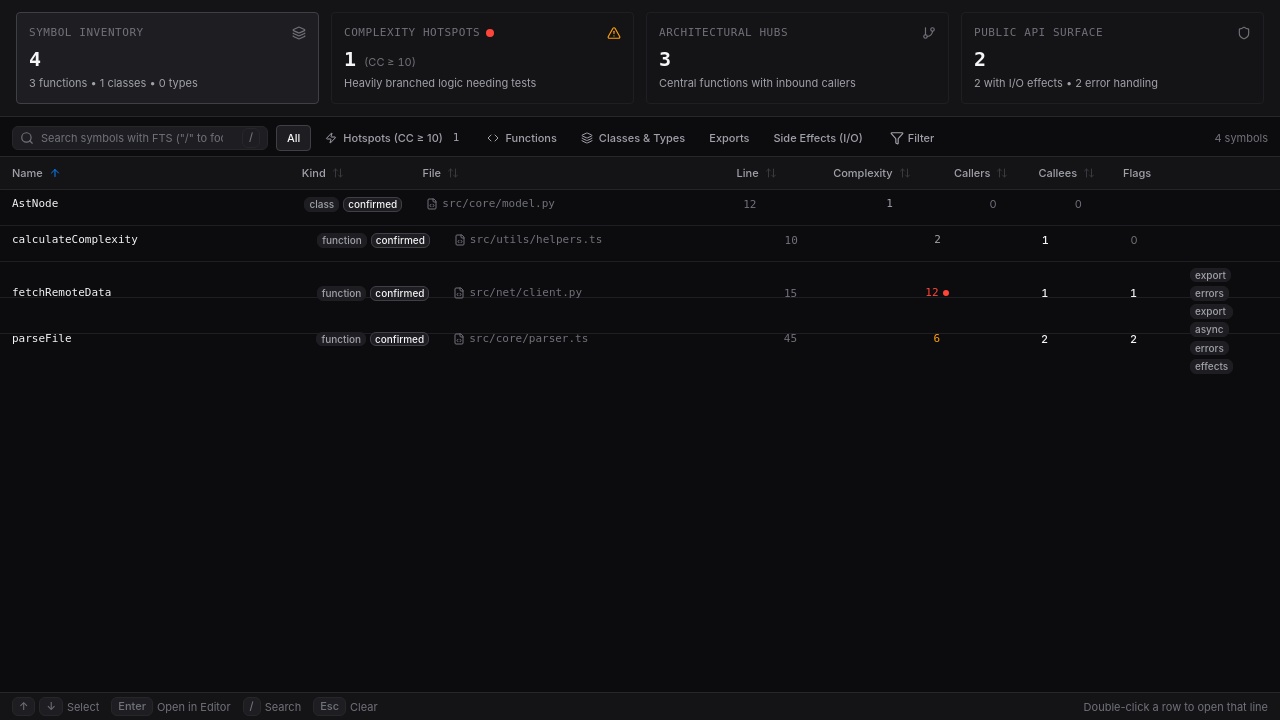
Test case: CodeIntelligenceView Component › filters symbols by text search query
Type "mccabe" into the search field with test id "symbol-search-input". click: (140, 138)
box: [12,126,268,150]
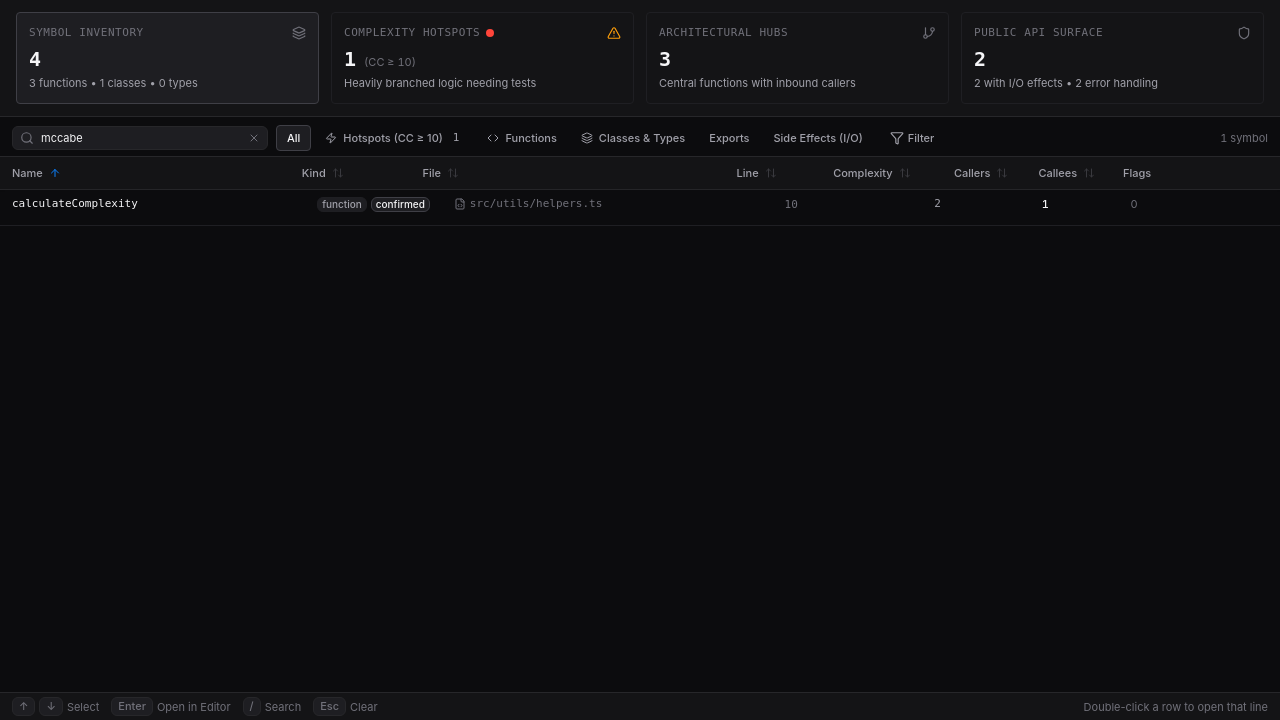
Now the text "calculateComplexity" is shown, box [12,196,138,212]
Now the text "parseFile" is gone
Now the text "AstNode" is gone
